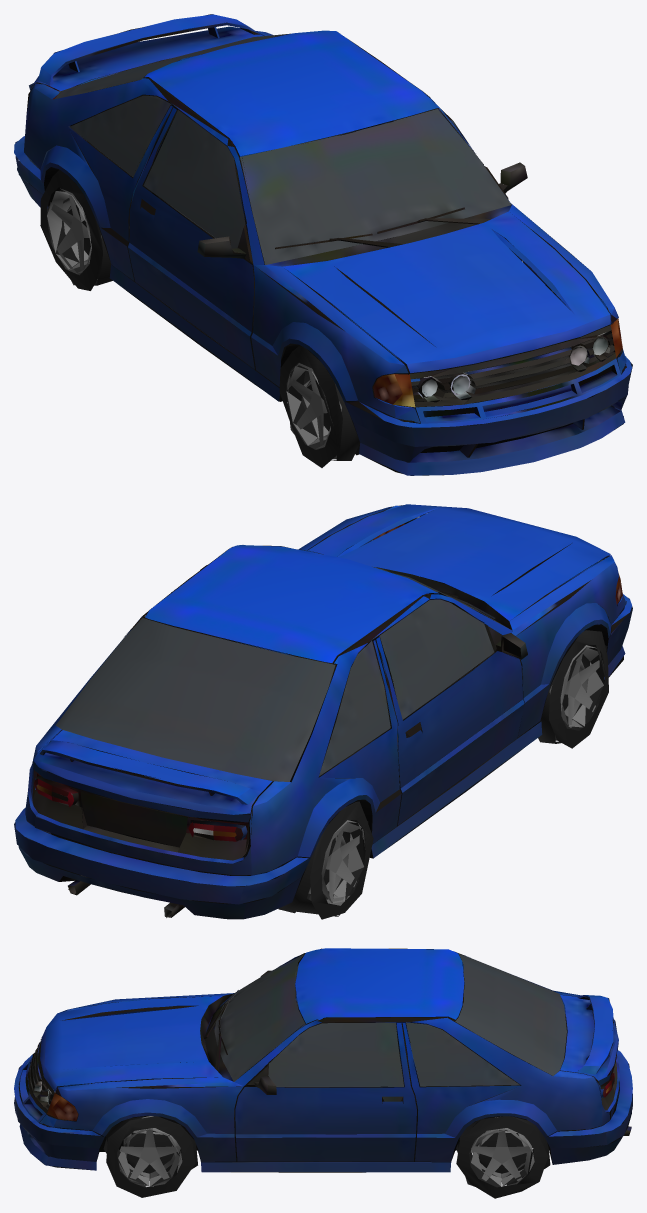
Rendered from pack-coupe-L2.glb.
The picture shows the model from 3 angles, top to bottom: view 1: azimuth 30°, elevation 25°; view 2: azimuth 150°, elevation 25°; view 3: azimuth 270°, elevation 25°; orthographic projection. The views are drawn at different scales.
Parts seen in each view (by area): view 1: body, wheel-front-left, wheel-back-left, wheel-back-left.1, wheel-front-left.1; view 2: body, wheel-back-left, wheel-front-left, wheel-back-left.1, wheel-front-left.1; view 3: body, wheel-back-right, wheel-front-right, wheel-front-right.1, wheel-back-right.1.
Part boxes in pixels (x1=…): body: x1=14, y1=14, x2=632, y2=475; wheel-front-left: x1=279, y1=345, x2=360, y2=467; wheel-back-left: x1=40, y1=170, x2=129, y2=290; wheel-back-left.1: x1=47, y1=188, x2=101, y2=274; wheel-front-left.1: x1=286, y1=363, x2=341, y2=448; body: x1=14, y1=504, x2=632, y2=919; wheel-back-left: x1=278, y1=801, x2=373, y2=919; wheel-front-left: x1=538, y1=630, x2=608, y2=748; wheel-back-left.1: x1=308, y1=820, x2=365, y2=905; wheel-front-left.1: x1=549, y1=645, x2=603, y2=727; body: x1=14, y1=948, x2=632, y2=1172; wheel-back-right: x1=456, y1=1116, x2=550, y2=1198; wheel-front-right: x1=103, y1=1116, x2=197, y2=1197; wheel-front-right.1: x1=118, y1=1116, x2=182, y2=1186; wheel-back-right.1: x1=471, y1=1117, x2=534, y2=1186.
Size of the model in its own units: 1.88 by 1.33 by 4.24.
3 materials, 1 textured.
